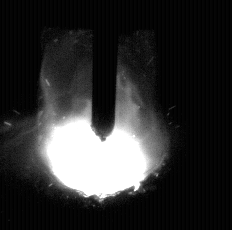arame: (93, 0, 116, 141)
poca: (36, 0, 170, 230)
